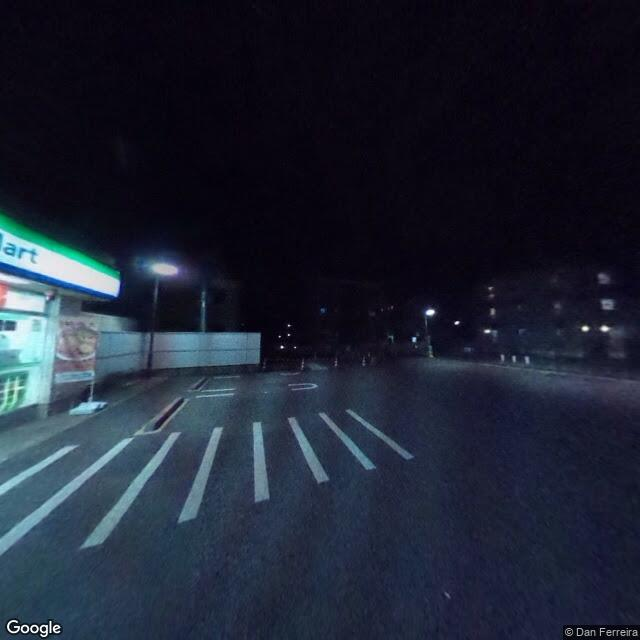family_mart: (1, 213, 121, 302)
